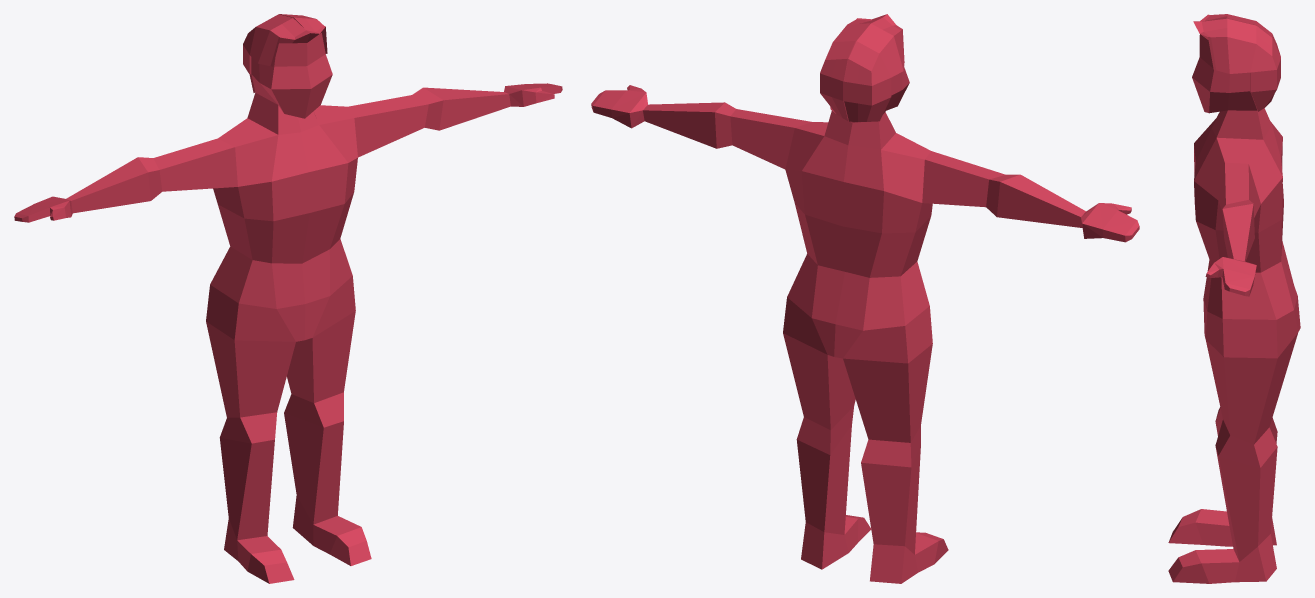
The model's file is human.fbx.
The picture shows the model from 3 angles, left to right: view 1: azimuth 30°, elevation 25°; view 2: azimuth 150°, elevation 25°; view 3: azimuth 270°, elevation 25°; orthographic projection.
Parts seen in each view (by area): view 1: Cube; view 2: Cube; view 3: Cube.
Boxes of the visible parts, x1,y1,x2,y2 form: Cube: [14, 14, 562, 583]; Cube: [591, 14, 1139, 583]; Cube: [1168, 14, 1300, 583].
Size of the model in its own units: 987 by 932 by 207.
